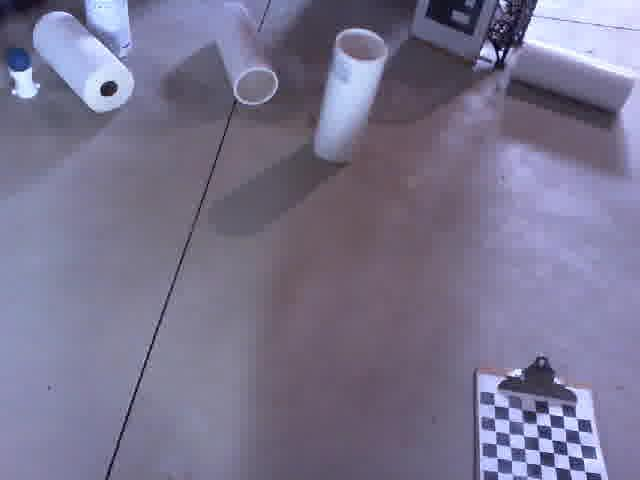coral: (304, 20, 393, 168), (202, 0, 280, 117), (82, 0, 132, 67)
